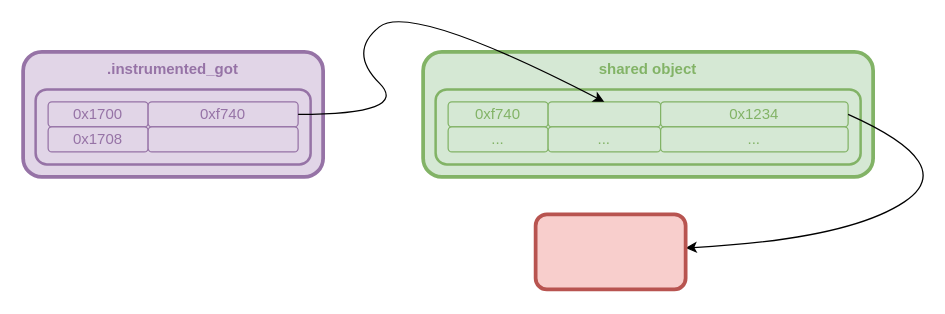
This 945x314 diagram has some shape labels left out. The centre of each missing label's shape, as x and y in pixels:
"0x0" goes at [222,139].
"__afl_area_ptr" goes at [604,114].
"SHARED MEMORY" goes at [610,251].
